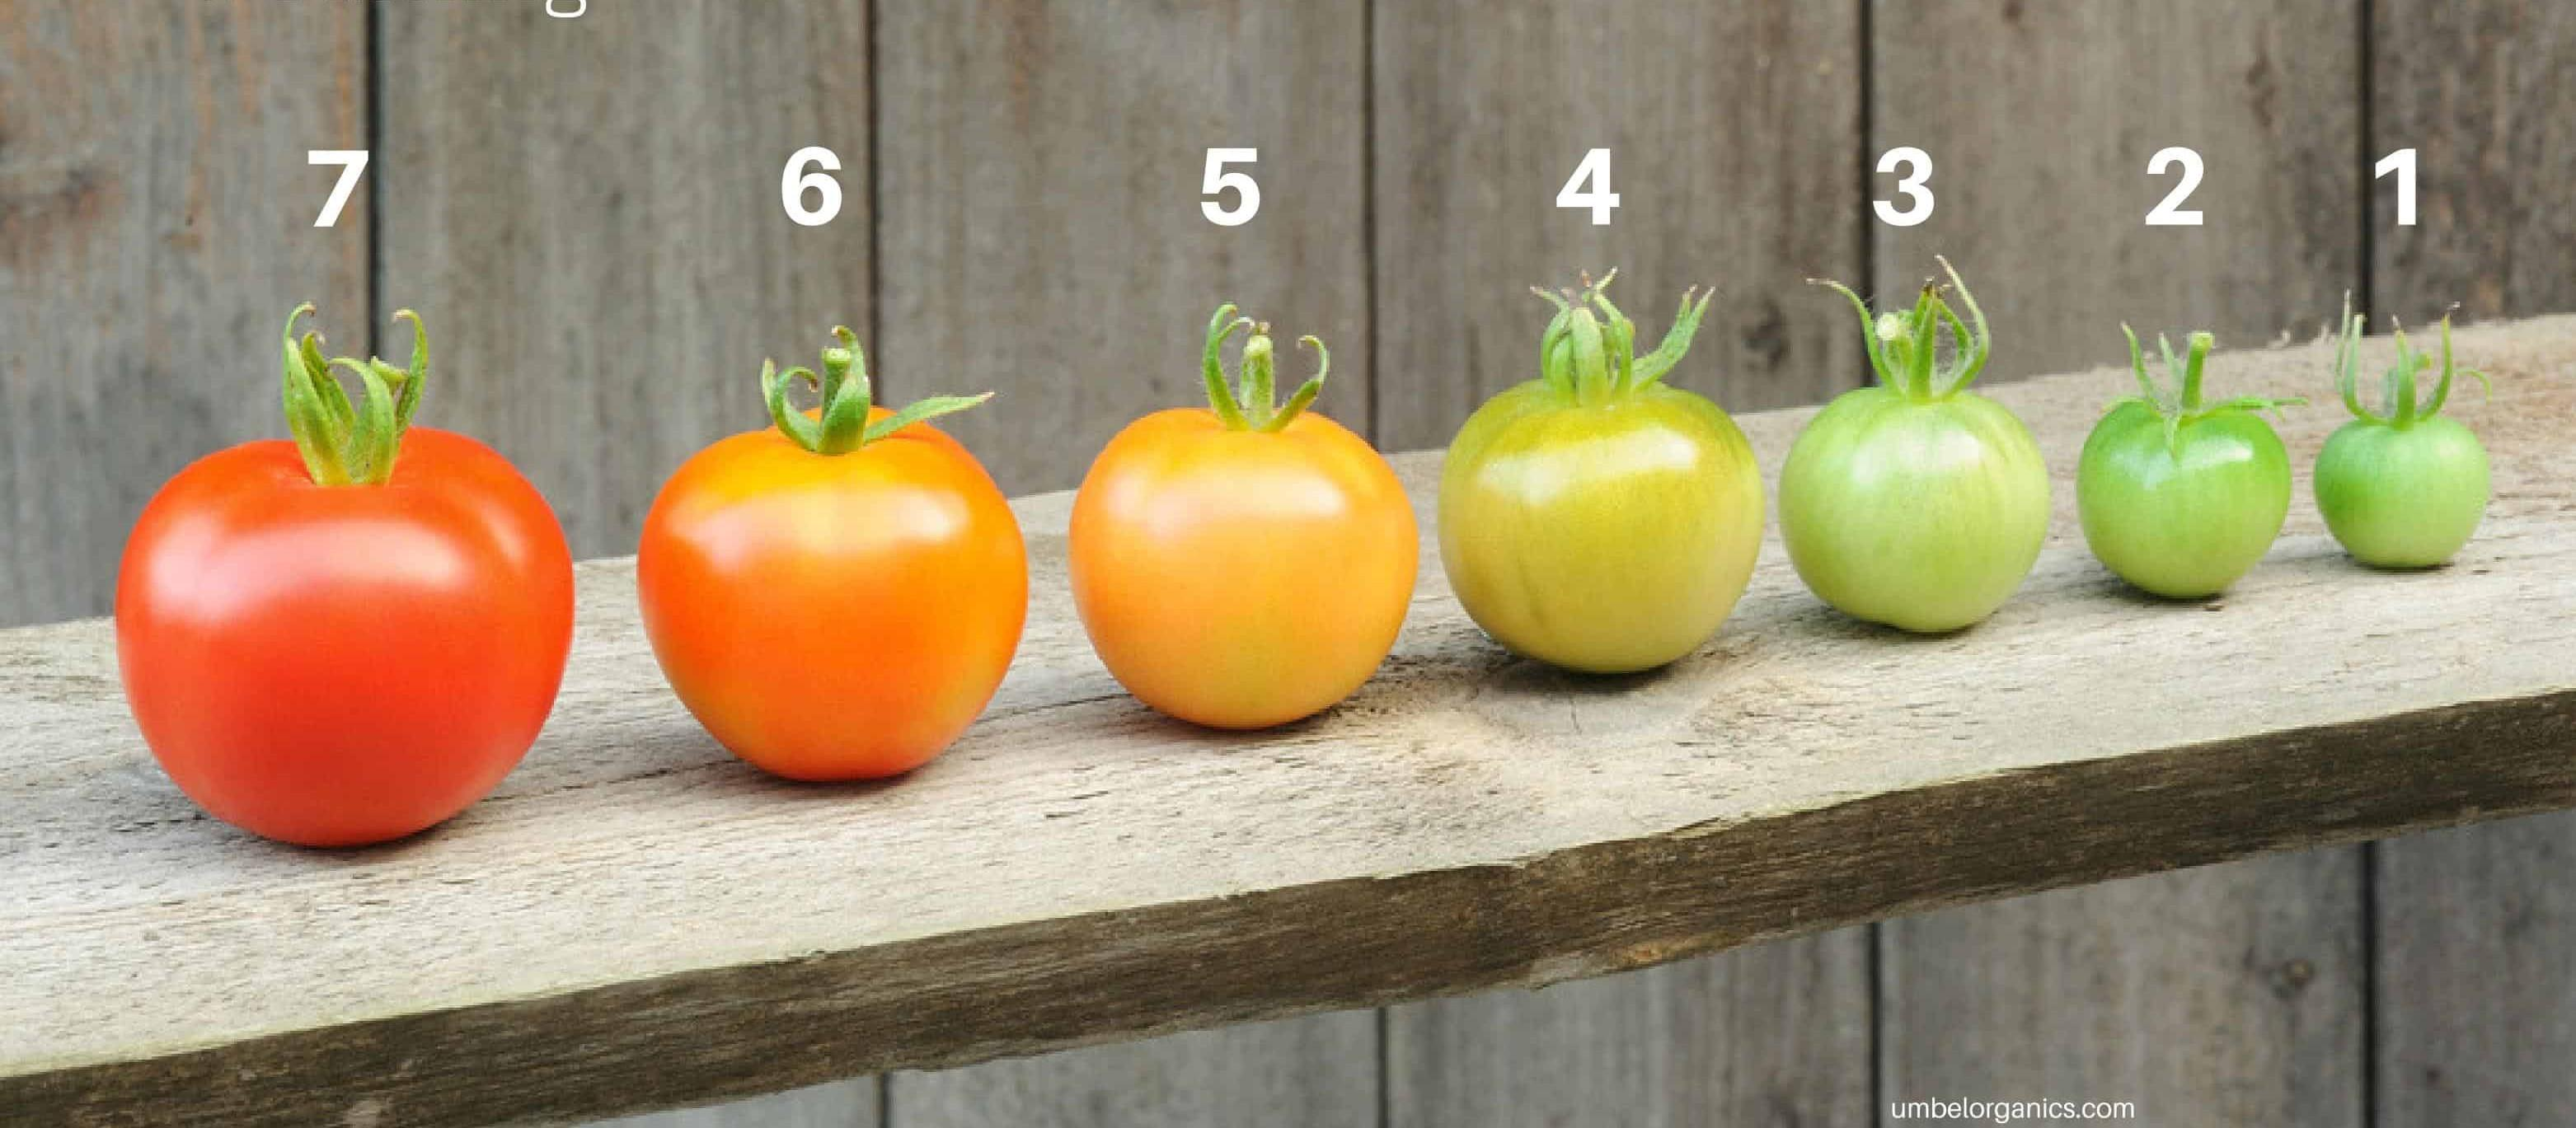healthy-tomato: (110, 353, 583, 859), (646, 351, 1038, 795)
